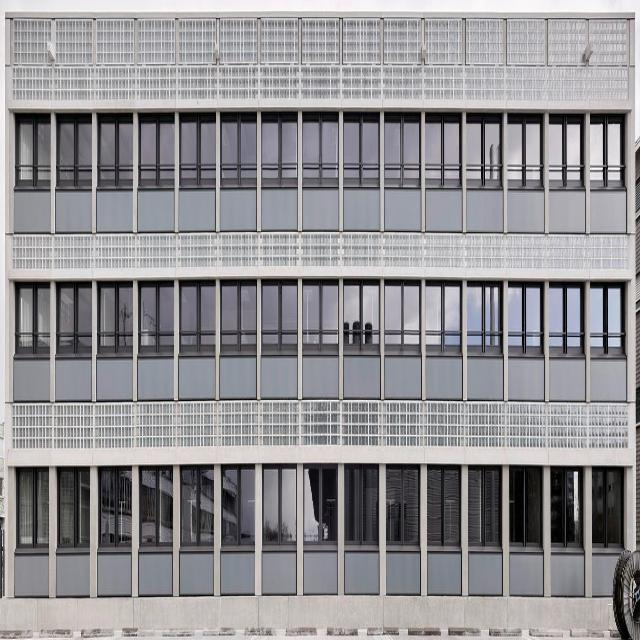window: (344, 467, 376, 548), (552, 467, 584, 548), (592, 472, 624, 553), (344, 469, 376, 549), (302, 464, 334, 544), (262, 464, 294, 544), (387, 471, 419, 551), (428, 470, 460, 550), (470, 470, 502, 550), (510, 469, 542, 549), (98, 117, 134, 187), (138, 115, 174, 185), (182, 115, 218, 185), (302, 280, 338, 350), (342, 279, 378, 349), (384, 117, 420, 187), (465, 115, 501, 185), (12, 284, 48, 354), (56, 286, 92, 356), (262, 279, 298, 349), (179, 279, 215, 349), (13, 473, 49, 543), (180, 469, 213, 545), (222, 113, 258, 182), (590, 119, 626, 188), (548, 114, 584, 183), (139, 282, 175, 351), (95, 282, 131, 351), (16, 117, 51, 187), (56, 115, 91, 185), (265, 115, 300, 185), (385, 280, 420, 350), (507, 279, 542, 349), (590, 279, 625, 349), (344, 117, 379, 187), (426, 117, 461, 187), (98, 465, 133, 535), (223, 471, 256, 545), (305, 113, 340, 182), (423, 282, 458, 351), (467, 282, 502, 351), (550, 282, 585, 351), (506, 114, 541, 183), (222, 282, 257, 351), (140, 471, 171, 547), (59, 470, 88, 542)
